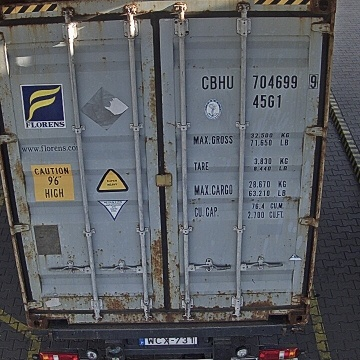serial_id: (202, 73, 318, 89)
